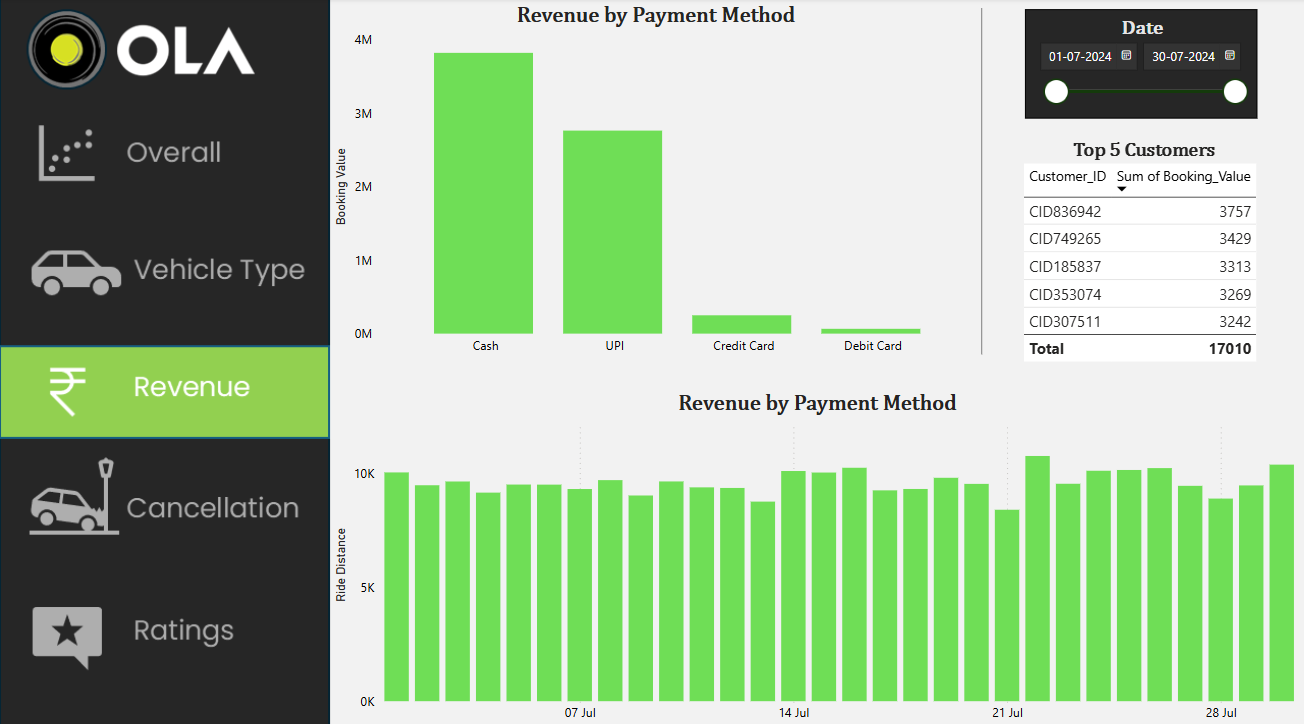

The page's visual inventory and layout, read from the dashboard file:
{"tool":"powerbi","page":{"name":"Revenue","canvas":[1280,720],"ordinal":2},"visuals":[{"type":"actionButton","box":[0,100.6,323.9,94.5],"z":0},{"type":"actionButton","box":[0,217.2,323.9,94.5],"z":1000},{"type":"actionButton","box":[0,446.6,323.9,94.5],"z":2000},{"type":"actionButton","box":[0,571.8,323.9,94.5],"z":3000},{"type":"columnChart","title":"Revenue by Payment Method","fields":{"Y":["Sum(July.Booking_Value)"],"Category":["July.Payment_Method"]},"box":[323.8,0,639.5,359.5],"z":4000},{"type":"columnChart","title":"Revenue by Payment Method","fields":{"Category":["July.Date"],"Y":["Sum(July.Ride_Distance)"]},"box":[323.8,381.5,956.4,338.9],"z":5000},{"type":"slicer","title":"Date","fields":{"Values":["July.Date"]},"box":[1005.8,11,227.8,107],"z":6000},{"type":"tableEx","title":"Top 5 Customers","fields":{"Values":["July.Customer_ID","Sum(July.Booking_Value)"]},"box":[996.2,131.7,249.7,249.7],"z":7000},{"type":"shape","box":[946.8,9.6,32.9,340.3],"z":8000}]}

Visuals, with their boxes in screenshot pixels (x1, y1, x2, y2), scaled from the page's 1280x720 canvas onto the 1304x724 screenshot:
actionButton: left=0, top=101, right=330, bottom=196
actionButton: left=0, top=218, right=330, bottom=313
actionButton: left=0, top=449, right=330, bottom=544
actionButton: left=0, top=575, right=330, bottom=670
"Revenue by Payment Method" columnChart: left=330, top=0, right=981, bottom=361
"Revenue by Payment Method" columnChart: left=330, top=384, right=1303, bottom=723
"Date" slicer: left=1025, top=11, right=1257, bottom=119
"Top 5 Customers" tableEx: left=1015, top=132, right=1269, bottom=384
shape: left=965, top=10, right=998, bottom=352
